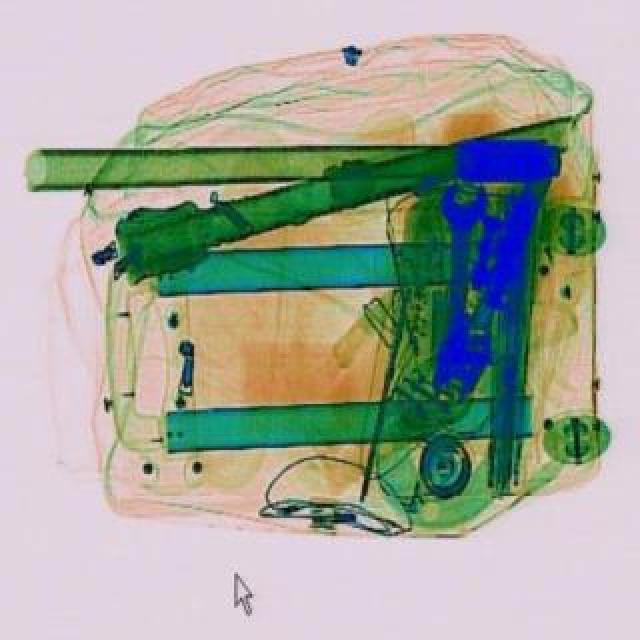scissors: (430, 180, 490, 322)
